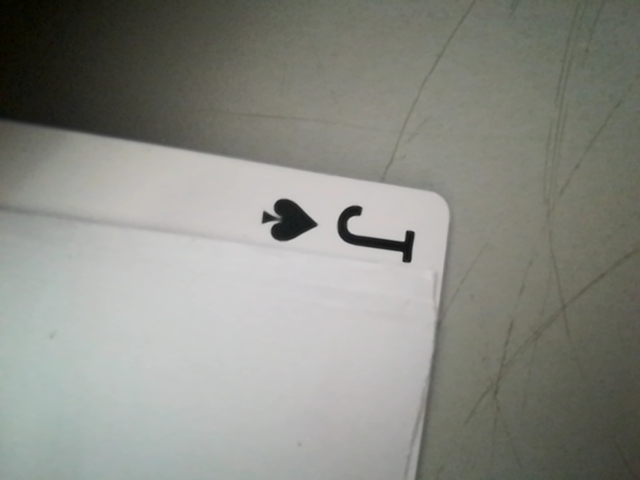ht j: (238, 193, 436, 262)
